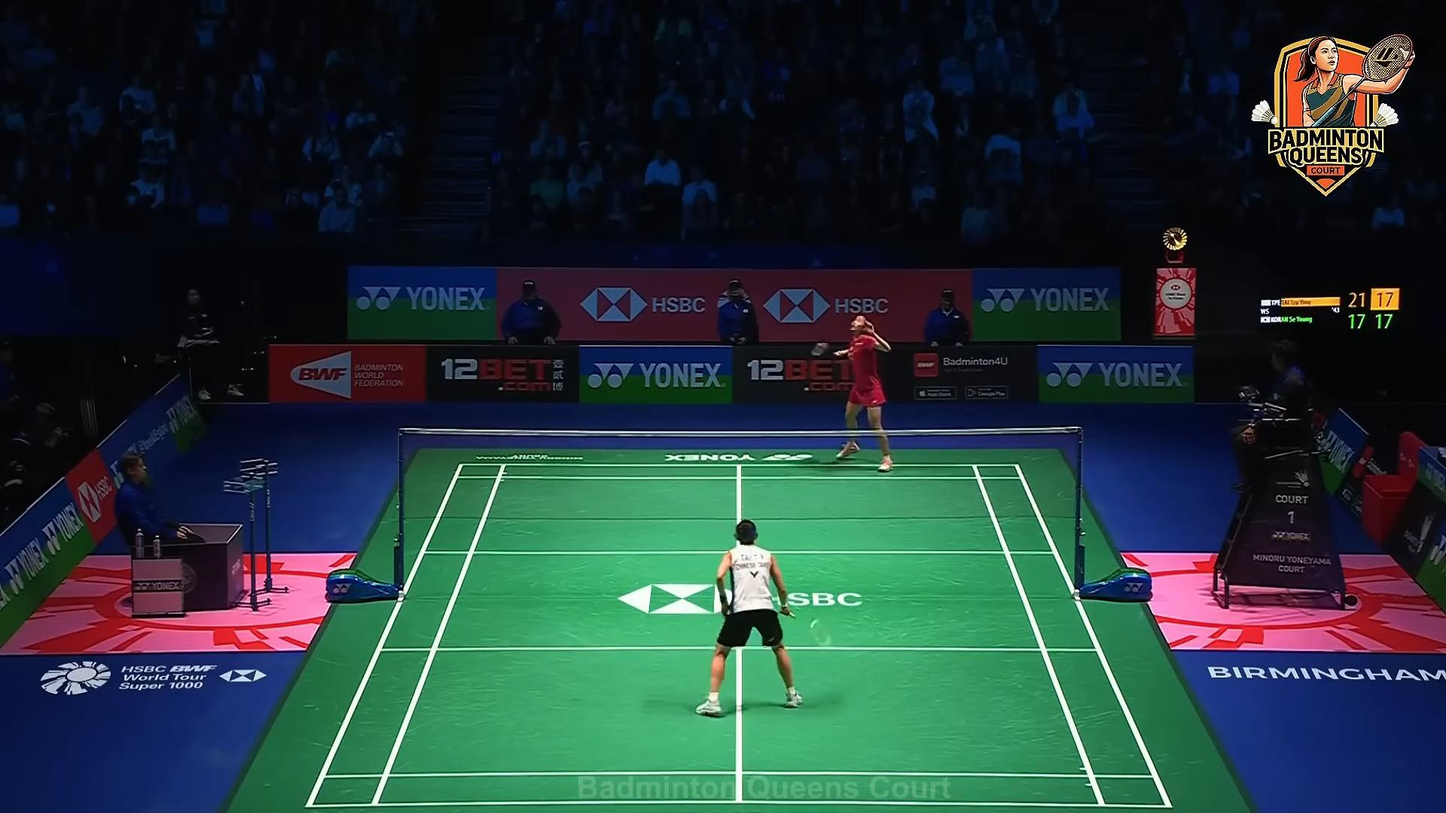player: (696, 519, 803, 717), (810, 312, 895, 473)
